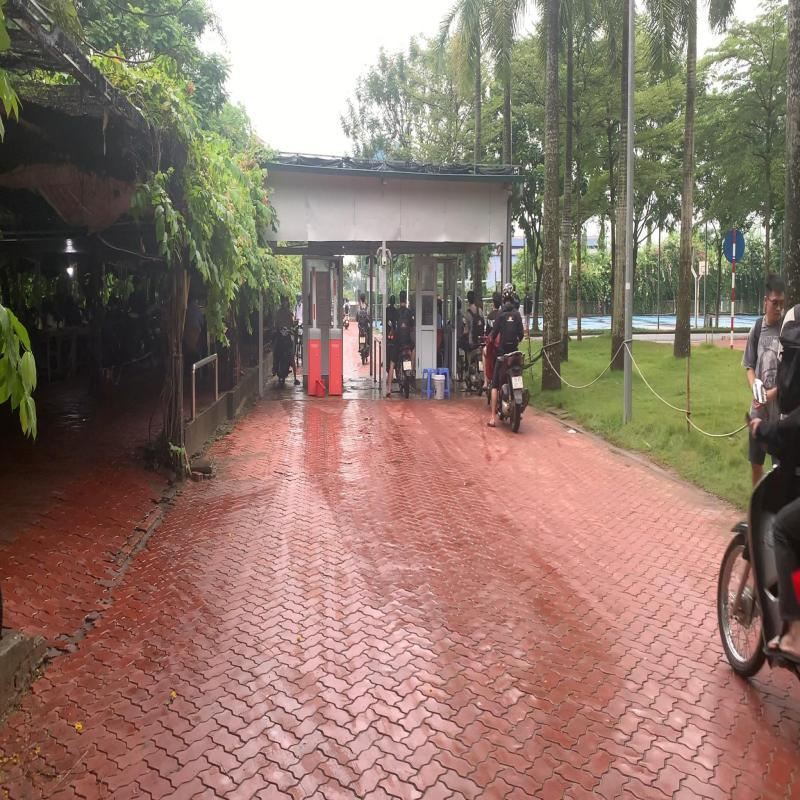nohelmet: (467, 290, 475, 306), (400, 289, 407, 305), (360, 291, 367, 303)
